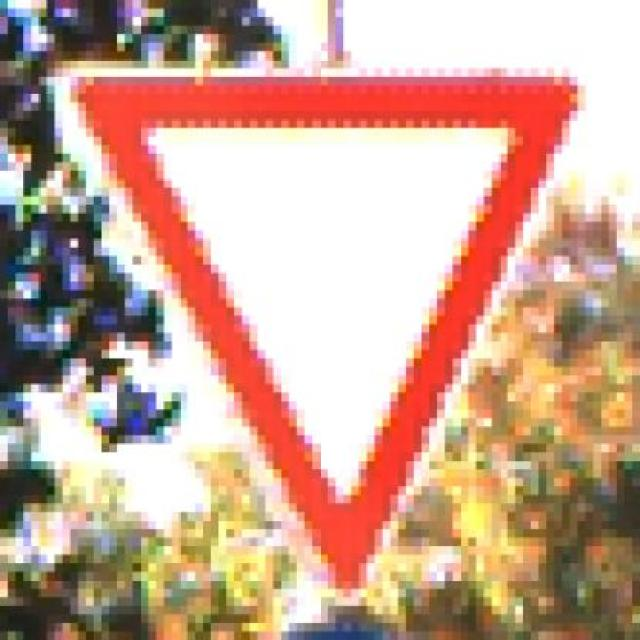Give Way: (62, 42, 578, 598)
